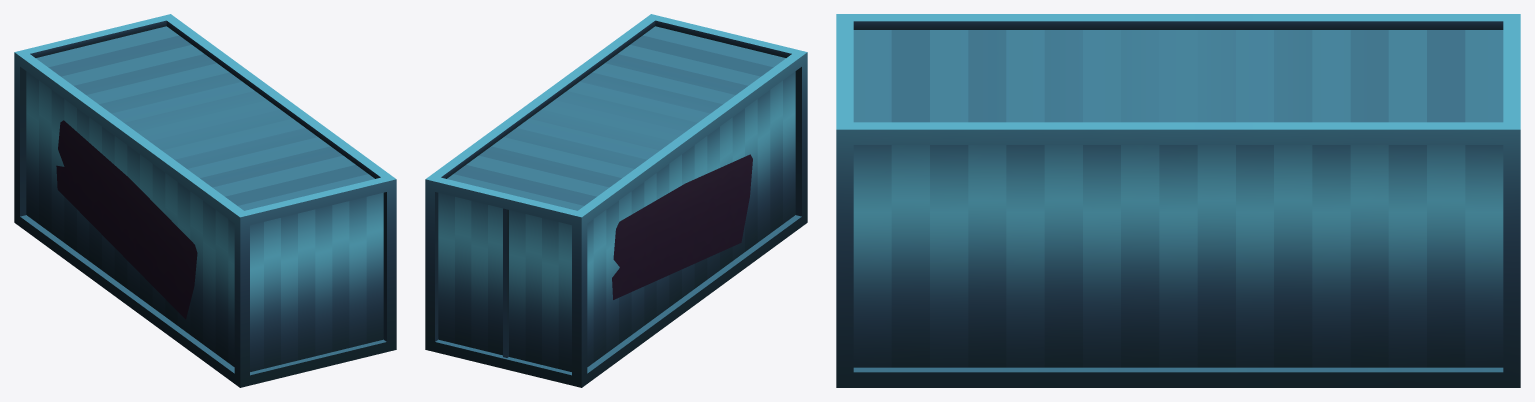
The model's file is Container_1G.fbx.
The picture shows the model from 3 angles, left to right: view 1: azimuth 30°, elevation 25°; view 2: azimuth 150°, elevation 25°; view 3: azimuth 270°, elevation 25°; orthographic projection. The views are drawn at different scales.
Parts seen in each view (by area): view 1: Container_1G; view 2: Container_1G; view 3: Container_1G.
Boxes of the visible parts, x1=… form: Container_1G: x1=14, y1=14, x2=396, y2=387; Container_1G: x1=425, y1=14, x2=807, y2=387; Container_1G: x1=836, y1=14, x2=1520, y2=387.
Bounding box in the file's own units: 2.4 × 2.5 × 6.
